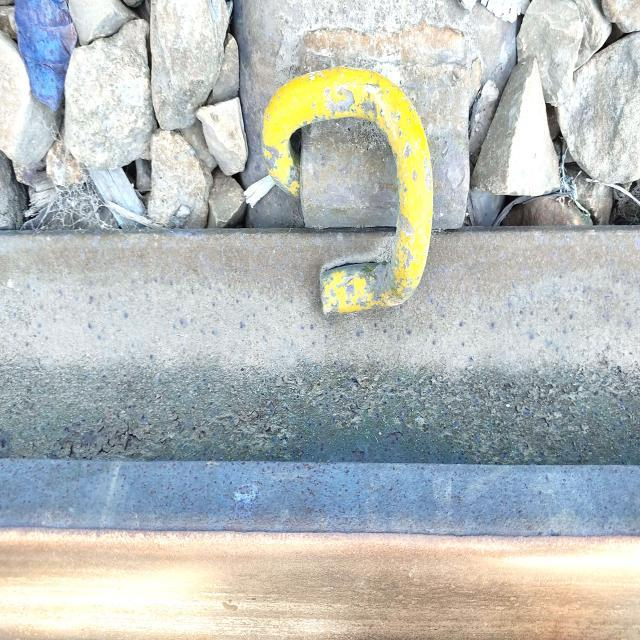Good Fasteners: (233, 0, 516, 316)
